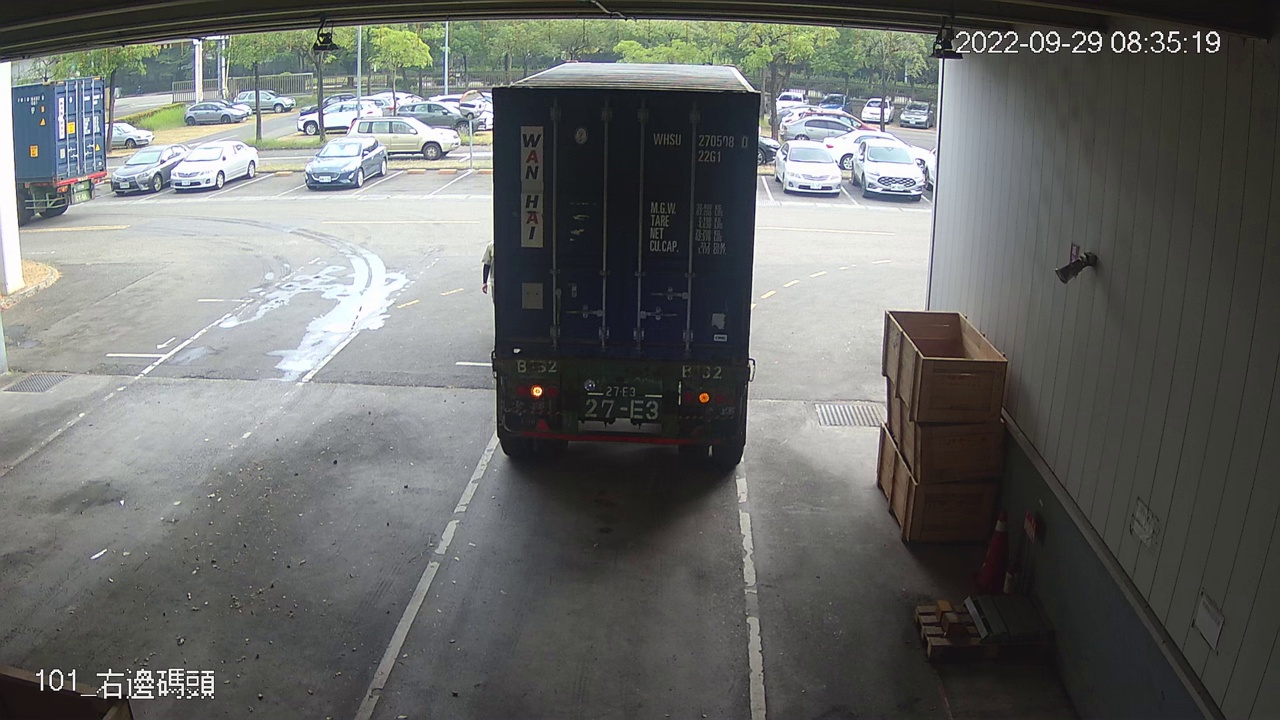container: (648, 125, 754, 169)
